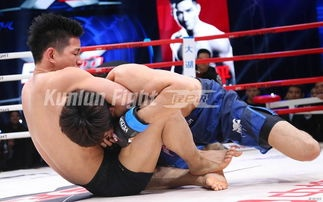falling: (16, 28, 235, 172)
